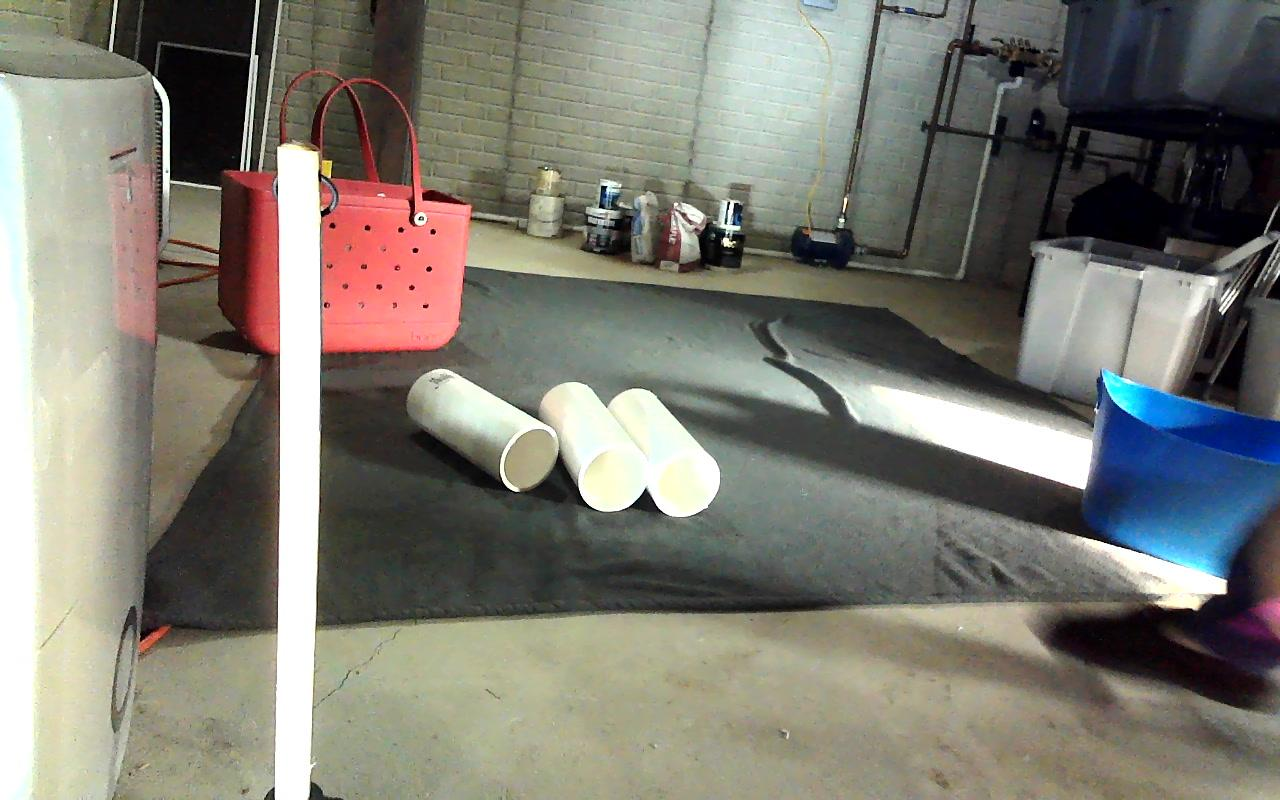coral: (406, 368, 557, 491), (611, 388, 720, 513), (544, 382, 649, 511)
